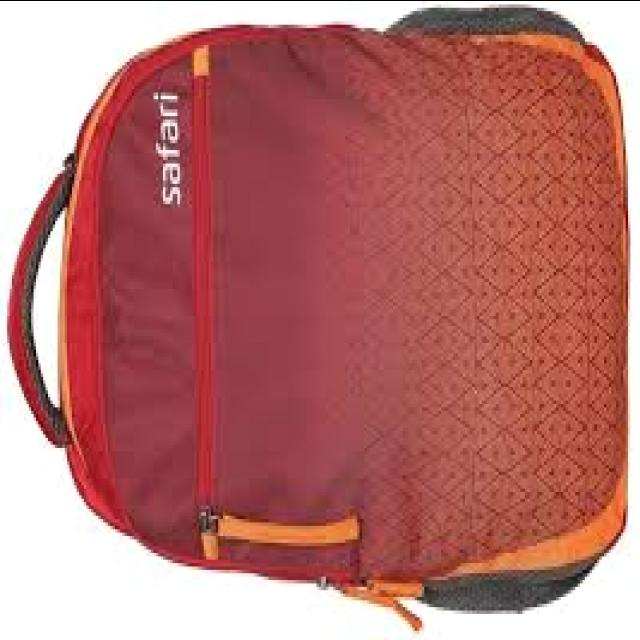backpack: (6, 8, 629, 631)
